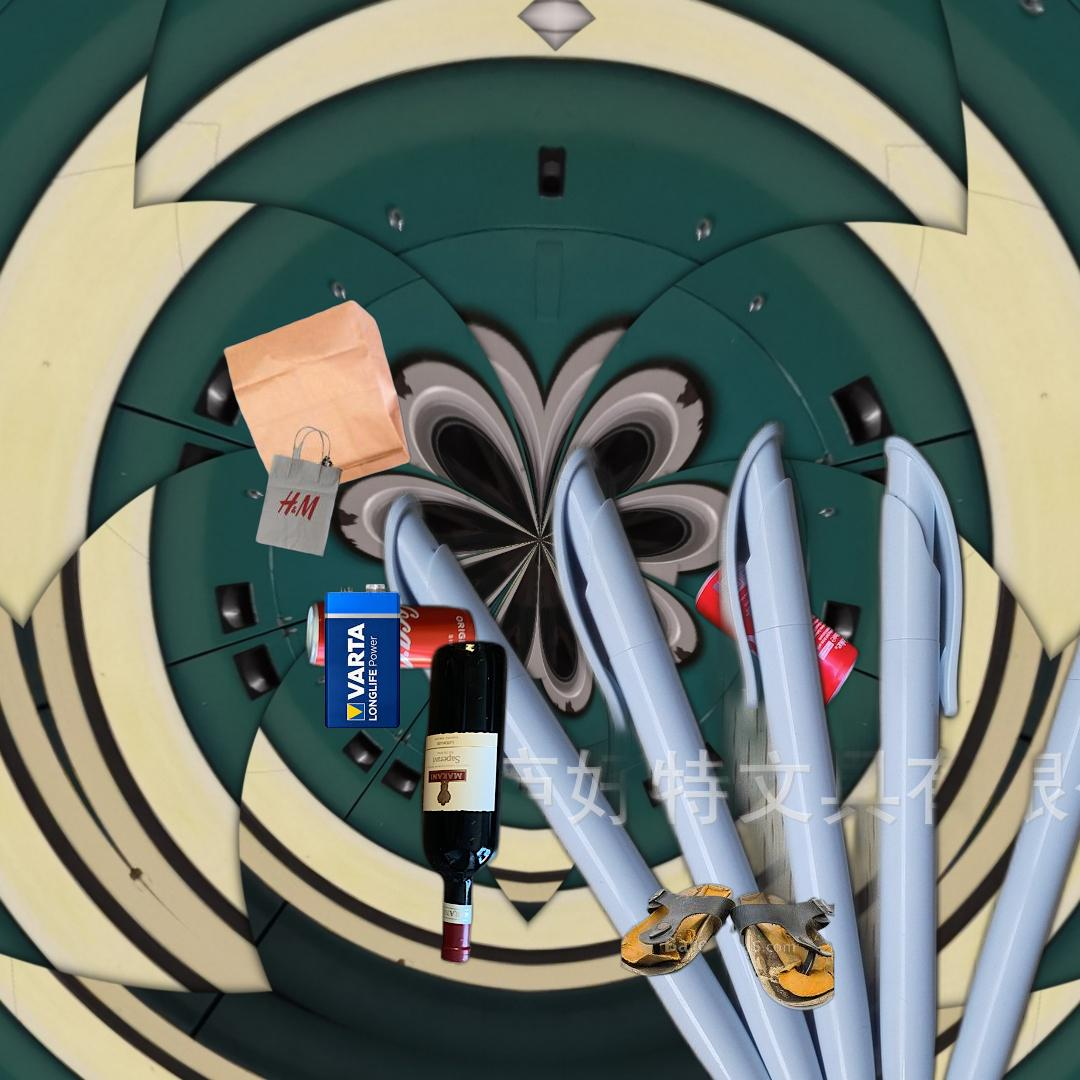battery: (321, 581, 403, 731)
glass: (6, 636, 512, 1080)
metal-cans: (691, 552, 864, 715), (300, 595, 482, 676)
paper-bag: (221, 297, 412, 560), (700, 1072, 997, 1080)
penholder: (374, 406, 1080, 1080)
shoes: (618, 880, 837, 1013)
